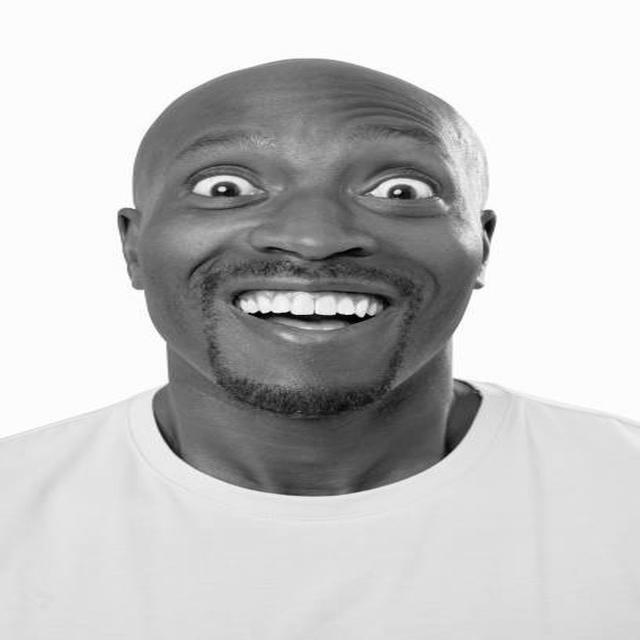Surprised: (139, 66, 482, 419)
